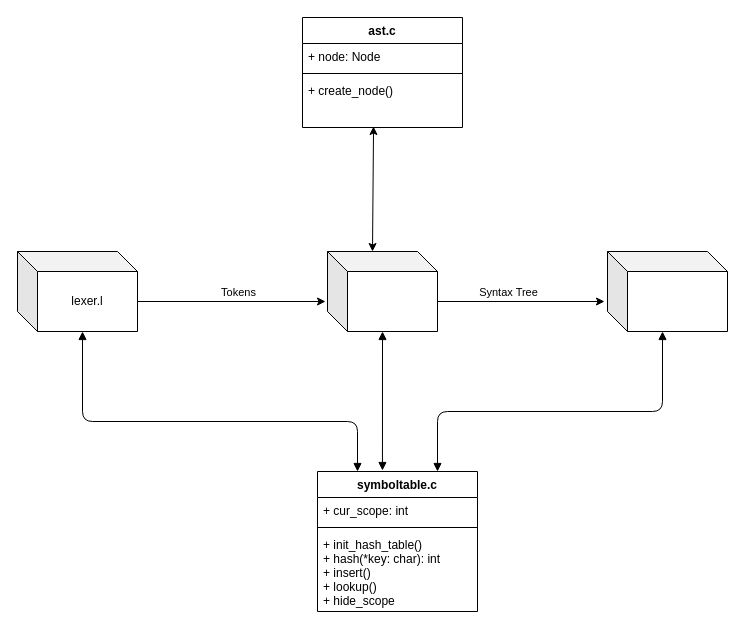
Image size: 745x632. Some labels were removed from this diagram. The shapes that lost their labels are listed below. From the top down, each one's centre as x and y in pixels, then its label:
point 382,291: parser.y
point 667,291: IR Code Generator (LLVM)
